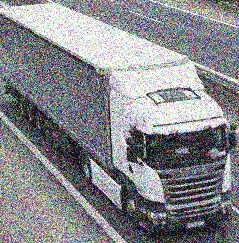truck: (0, 4, 237, 243)
